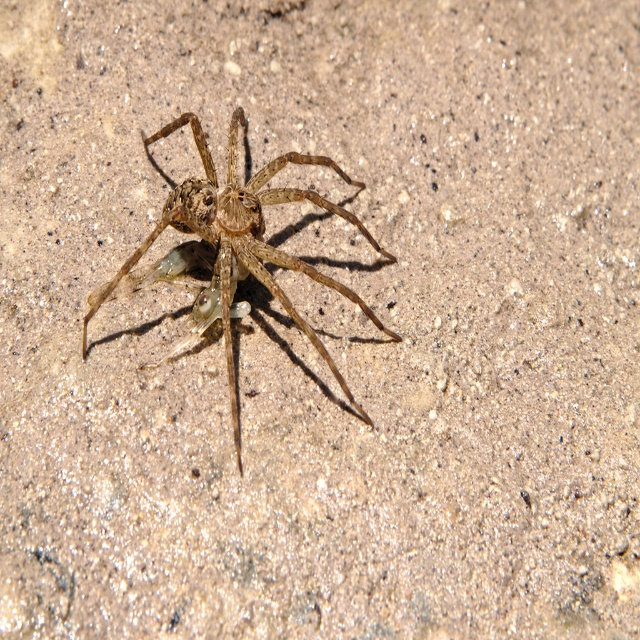Spider: (83, 102, 403, 477)
